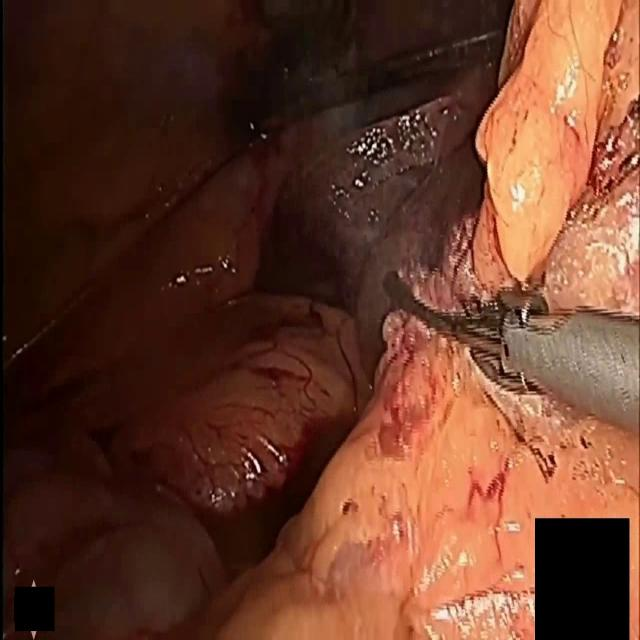surgical-area: (0, 0, 640, 639)
surgical-tool: (384, 273, 639, 435)
